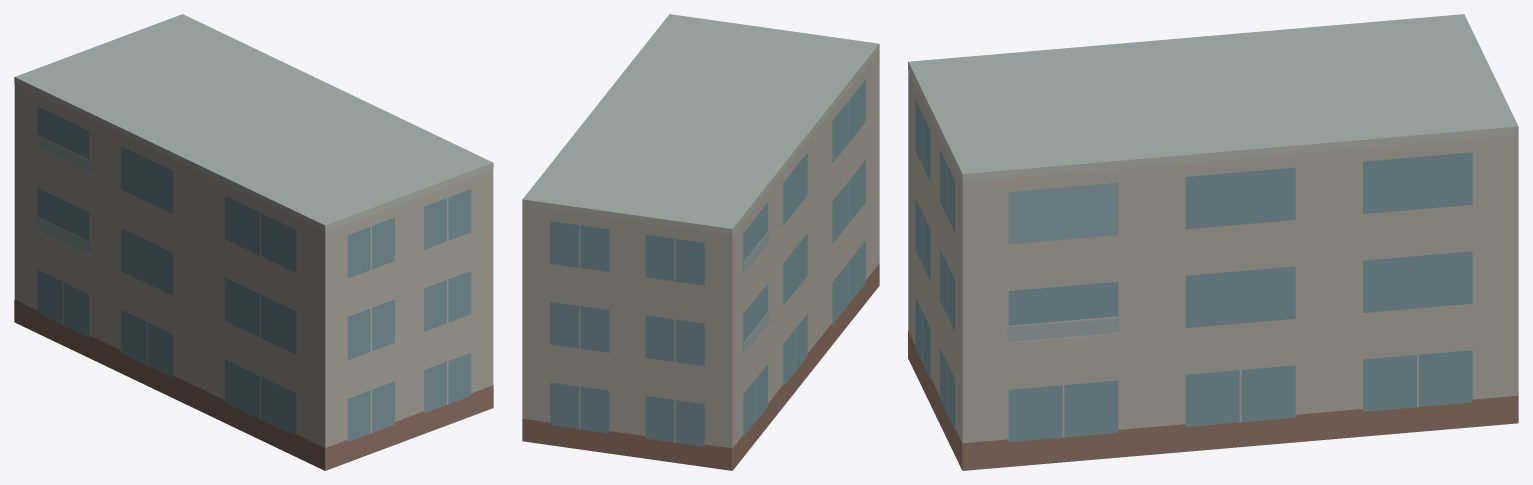
Rendered from survey-upis-32708910.glb.
3 views of the same model, side by side, from view 1: azimuth 30°, elevation 25°; view 2: azimuth 150°, elevation 25°; view 3: azimuth 270°, elevation 25° (orthographic). The views are drawn at different scales.
Parts seen in each view (by area): view 1: survey-upis-32708910.tmp; view 2: survey-upis-32708910.tmp; view 3: survey-upis-32708910.tmp.
Boxes of the visible parts, x1=… form: survey-upis-32708910.tmp: x1=14, y1=14, x2=493, y2=470; survey-upis-32708910.tmp: x1=522, y1=14, x2=879, y2=470; survey-upis-32708910.tmp: x1=908, y1=14, x2=1518, y2=470.
Bounding box in the file's own units: 10.6 × 9.15 × 17.07.
